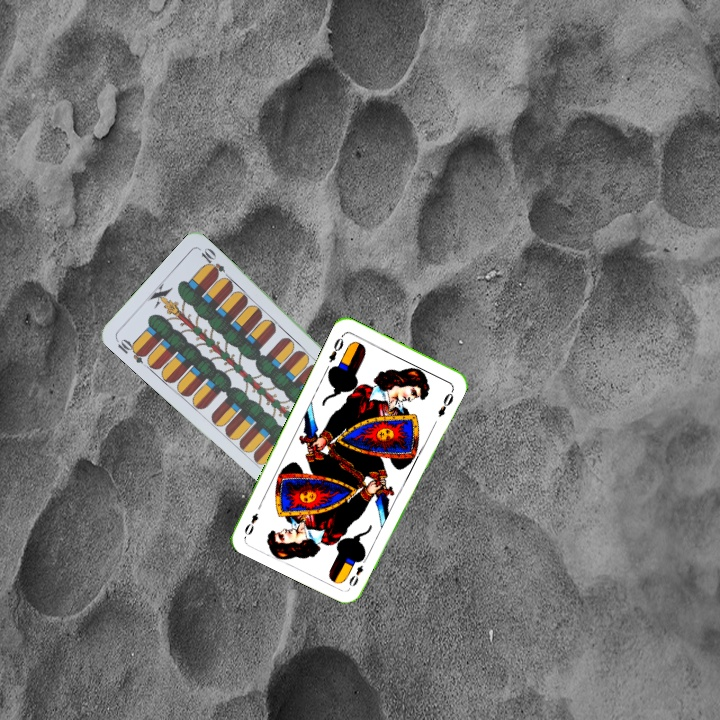E10: (112, 334, 149, 366)
EO: (345, 552, 370, 589), (325, 330, 347, 365)
